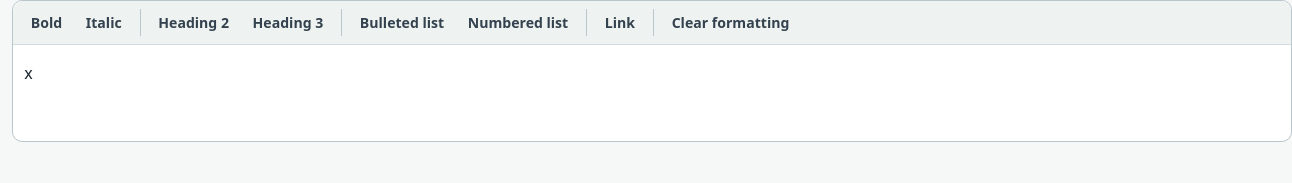
Scenario: RichTextEditor › rejects a non-http link visibly and inserts nothing
The width and height of the screenshot is (1292, 183).
Click the button "Link".
click(620, 23)  # box [595,7,645,39]
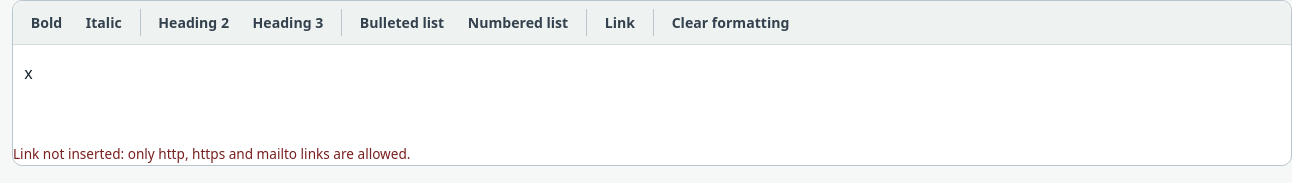
Expected: the message shows "only http, https and mailto links are allowed", [13,144,410,163]
